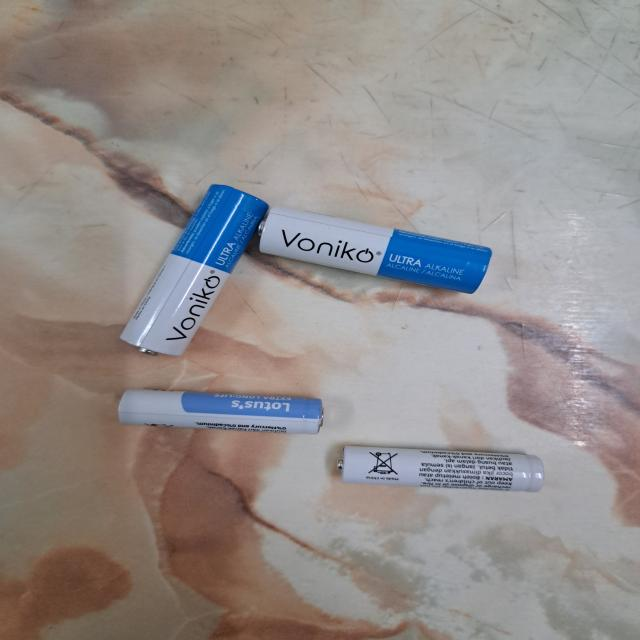battery: (118, 182, 271, 359), (256, 204, 494, 296), (336, 444, 547, 494), (115, 388, 327, 437)
